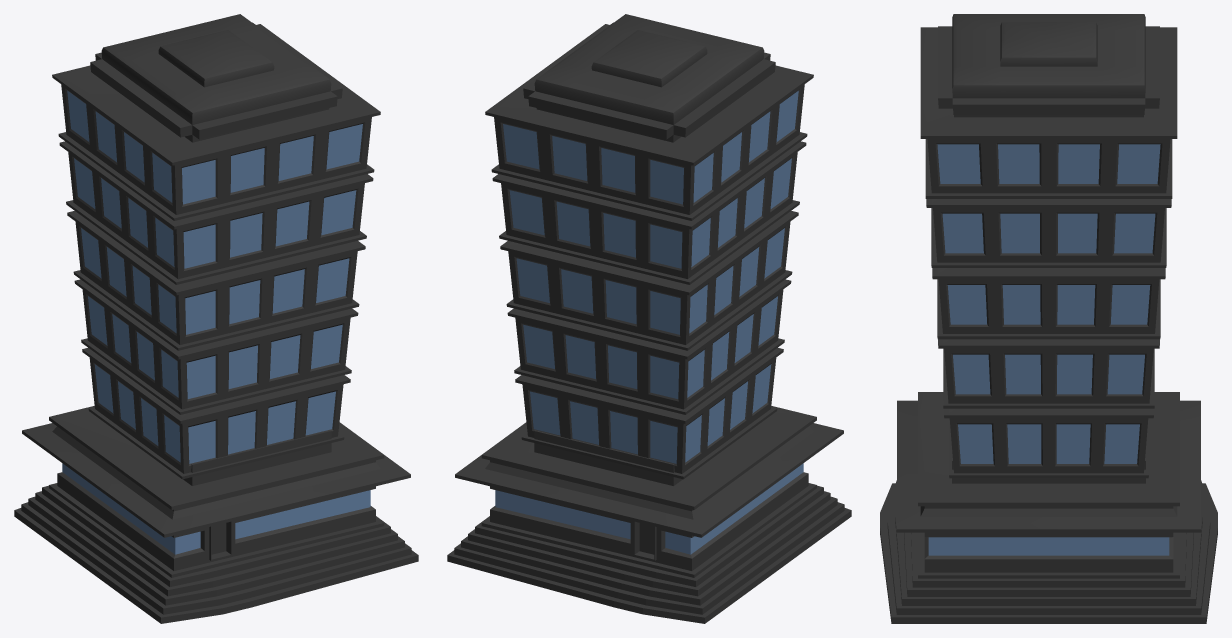
Rendered from Basic Building #2.FBX.
The picture shows the model from 3 angles, left to right: view 1: azimuth 30°, elevation 25°; view 2: azimuth 150°, elevation 25°; view 3: azimuth 270°, elevation 25°; orthographic projection. The views are drawn at different scales.
Parts seen in each view (by area): view 1: Basic Building #2; view 2: Basic Building #2; view 3: Basic Building #2.
Part boxes in pixels (x1,y1,x2,y2): Basic Building #2: (14,14,418,623); Basic Building #2: (447,14,851,623); Basic Building #2: (880,14,1217,623).
Size of the model in its own units: 19.52 by 35.22 by 20.81.
